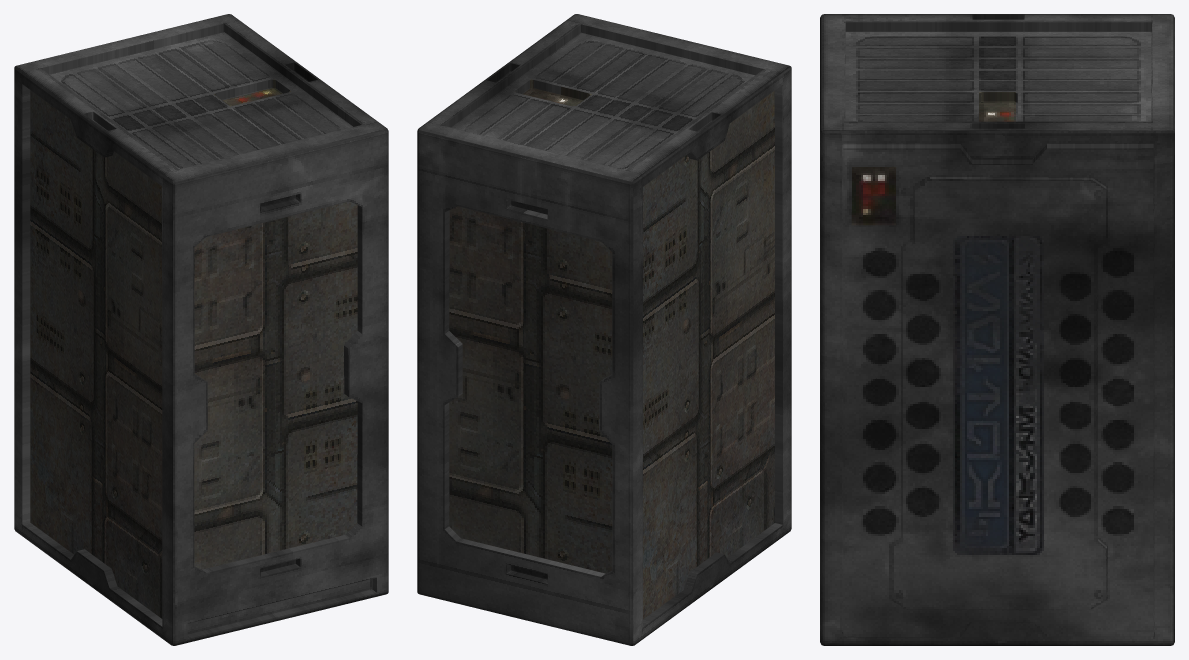
File: machinery_3.glb
The picture shows the model from 3 angles, left to right: view 1: azimuth 30°, elevation 25°; view 2: azimuth 150°, elevation 25°; view 3: azimuth 270°, elevation 25°; orthographic projection. The views are drawn at different scales.
Visible parts, largest first — view 1: machinery_3; view 2: machinery_3; view 3: machinery_3.
Boxes of the visible parts, x1=… form: machinery_3: x1=14, y1=14, x2=388, y2=645; machinery_3: x1=417, y1=14, x2=791, y2=645; machinery_3: x1=820, y1=14, x2=1174, y2=645.
Size of the model in its own units: 0.58 by 1.13 by 0.7.
Materials: 2 (2 with a texture image).
